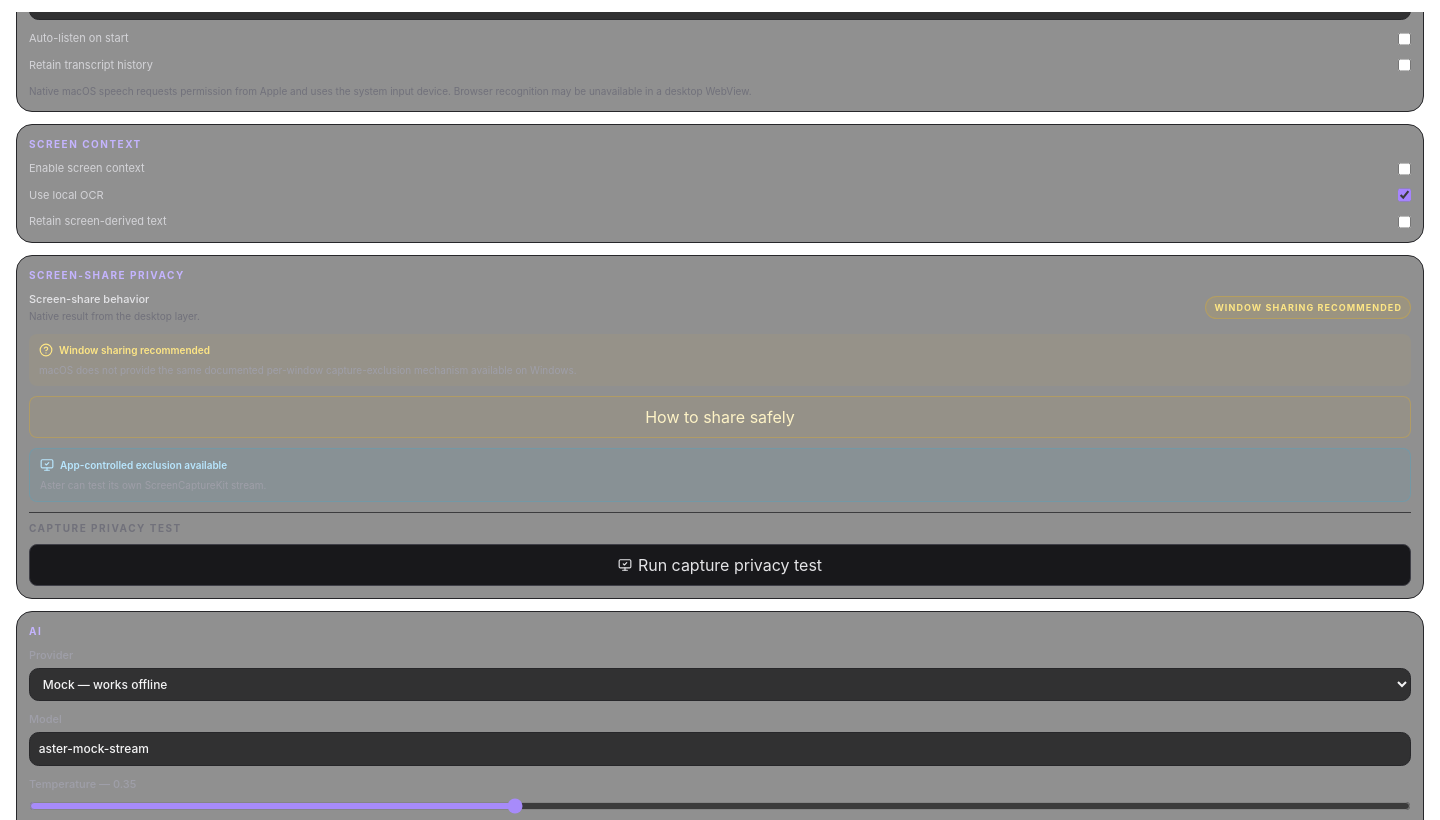
it: Overlay privacy settings › shows macOS window-sharing guidance and the app-owned capture diagnostic
The width and height of the screenshot is (1440, 820).
(page scrolled)
expect the text "Window sharing recommended" is shown: met, box [1206, 296, 1411, 319]
expect the text "App-controlled exclusion available" is shown: met, box [40, 458, 227, 472]
Click the button "How to share safely".
click(720, 417)  # box [29, 396, 1411, 438]
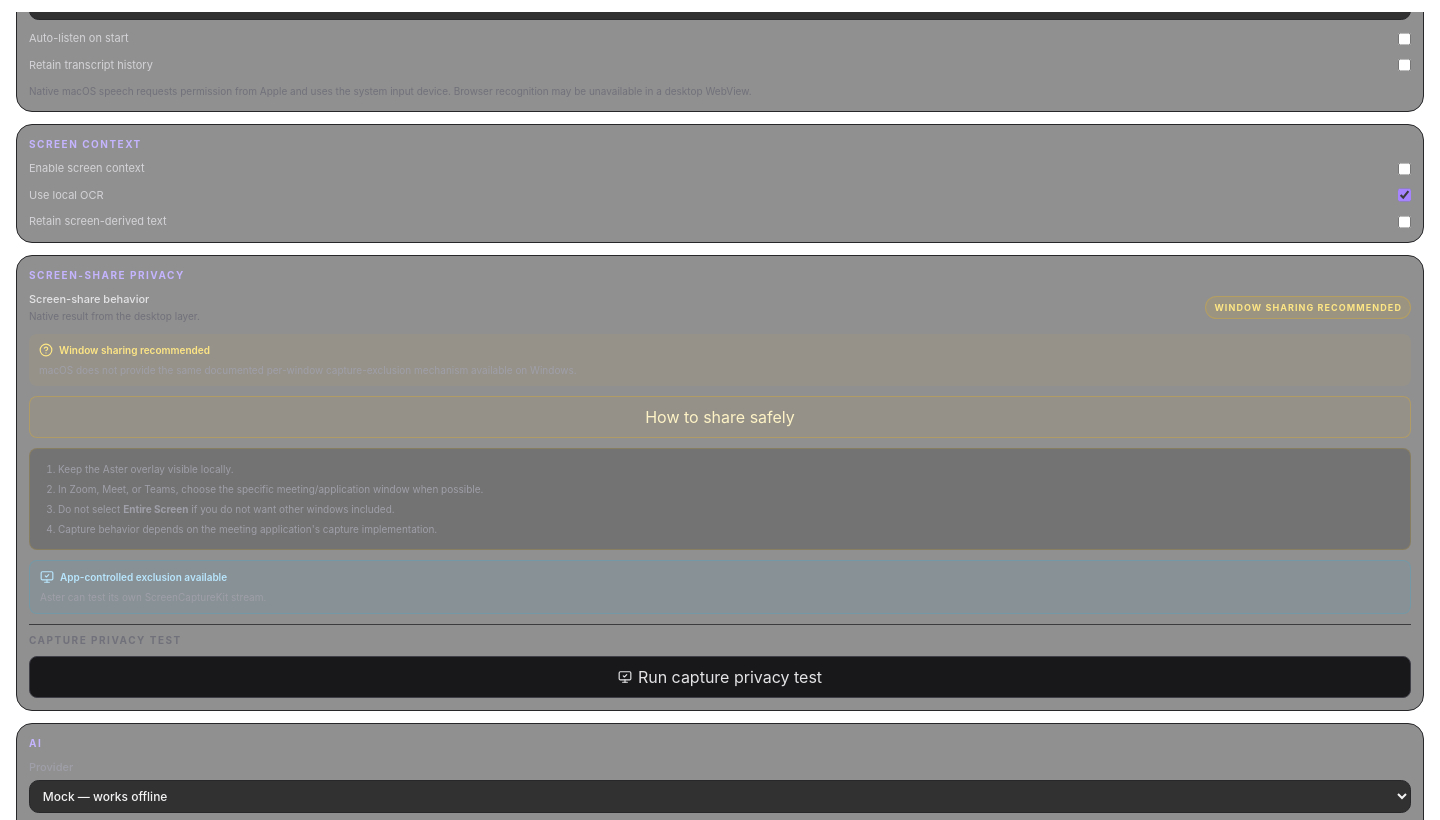
expect the list item "Keep the Aster overlay visible locally." is shown: met, box [58, 463, 234, 475]
Click the button "Run capture privacy test".
click(720, 677)  # box [29, 656, 1411, 698]
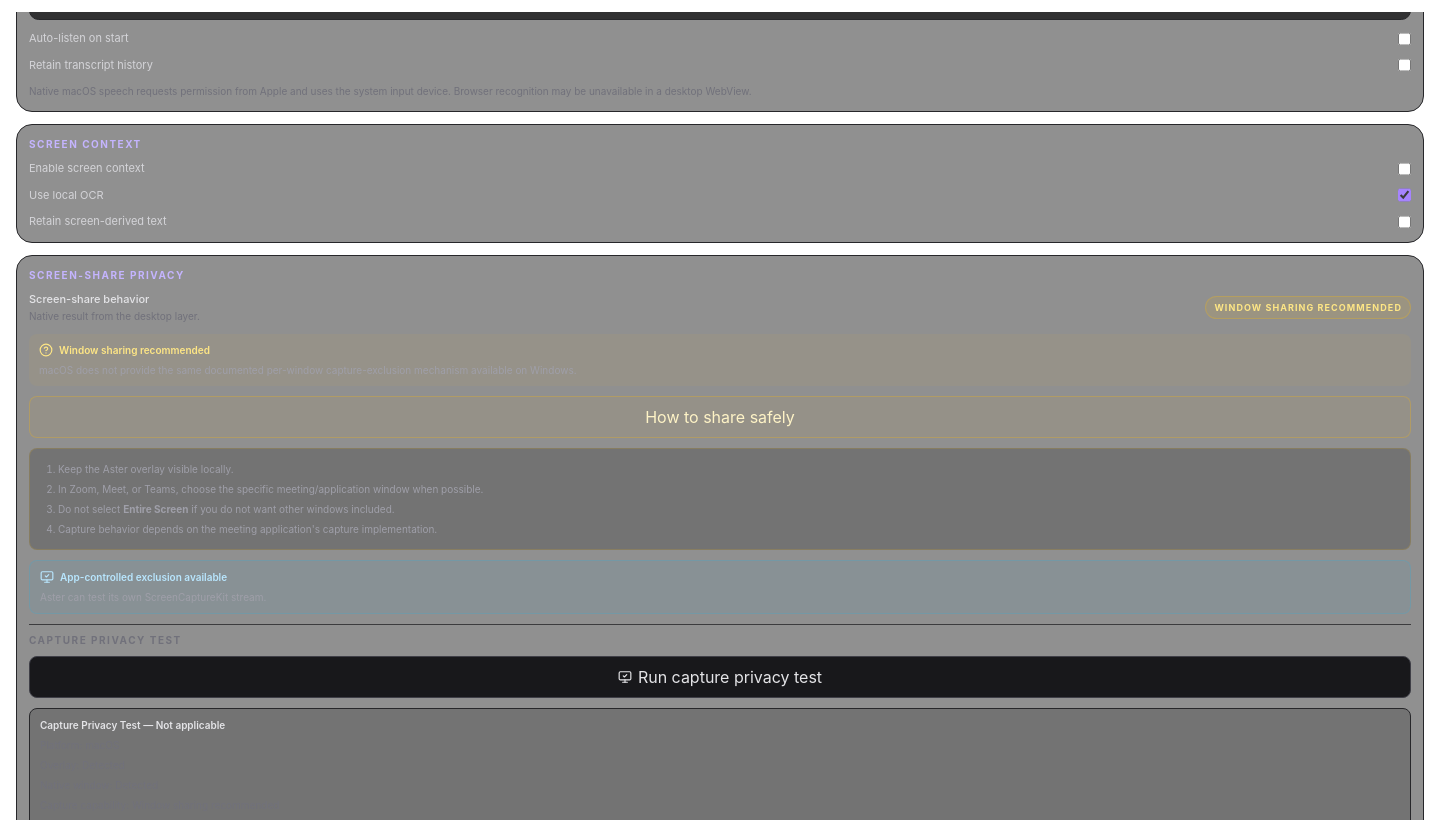
expect the text "Capture Privacy Test — Not applicable" is shown: met, box [40, 719, 225, 731]
